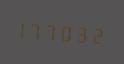one: (17, 16, 30, 41)
seven: (31, 17, 44, 42), (46, 18, 59, 43)
three: (74, 20, 87, 45)
two: (88, 21, 101, 46)
zero: (60, 19, 73, 44)
